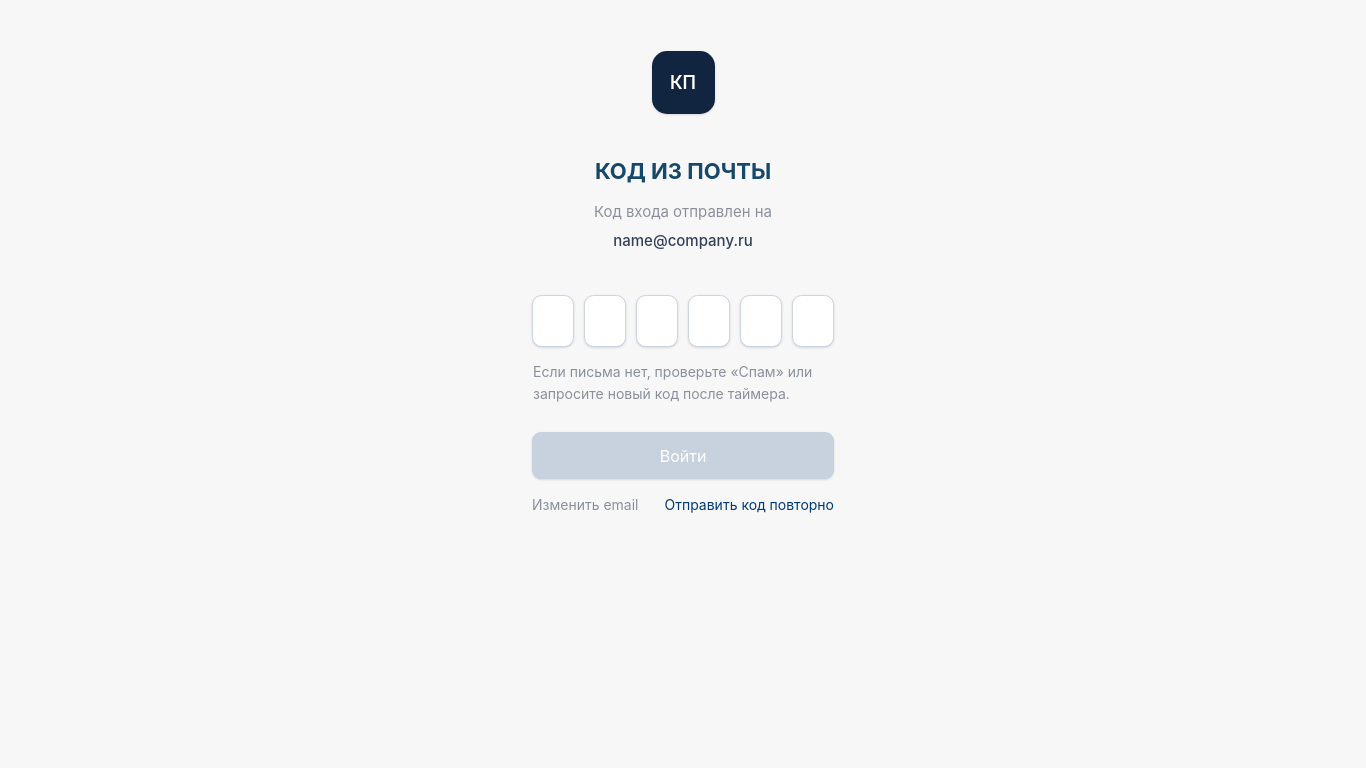
Test: Passwordless login pages › shows a controlled retry error when passwordless login code is expired
The image size is (1366, 768).
Click the field named "Код из письма" at (553, 321), box [532, 295, 574, 347]
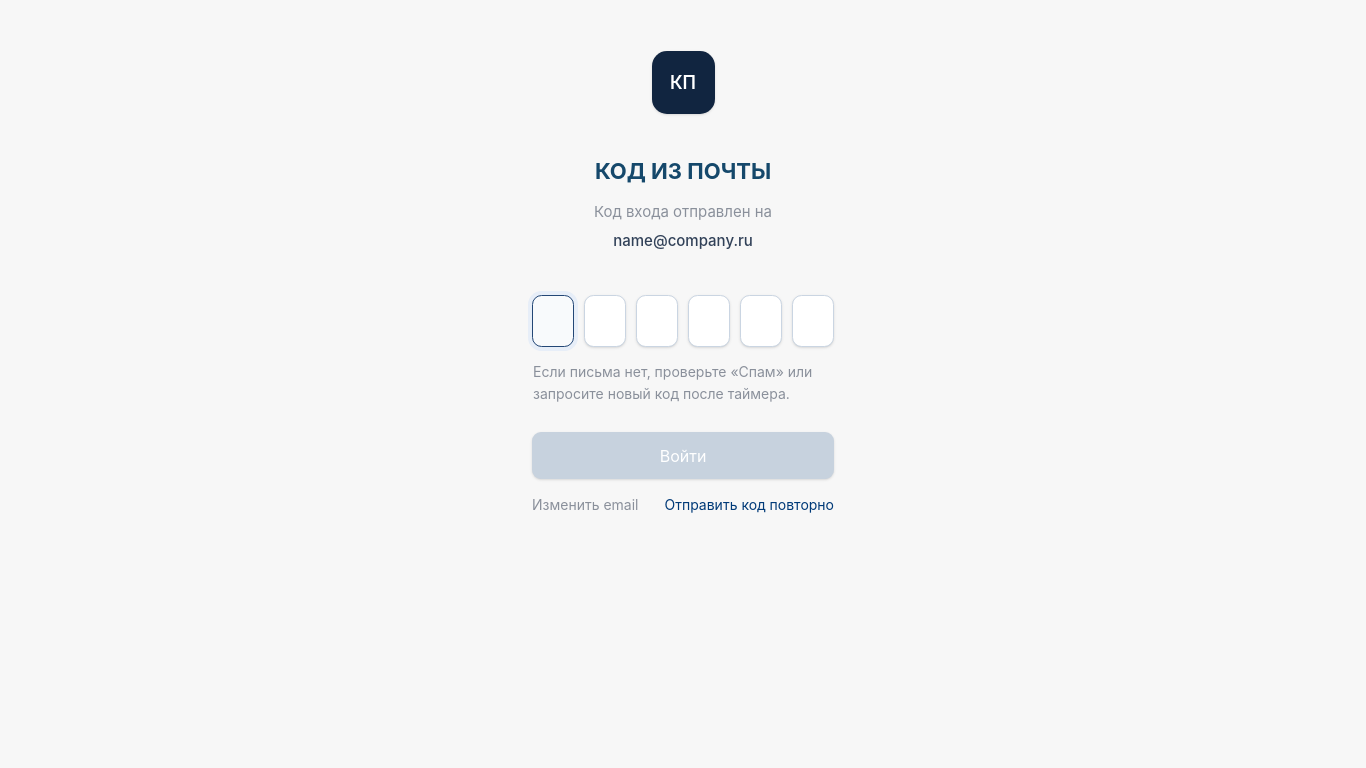
Type keys "123456"
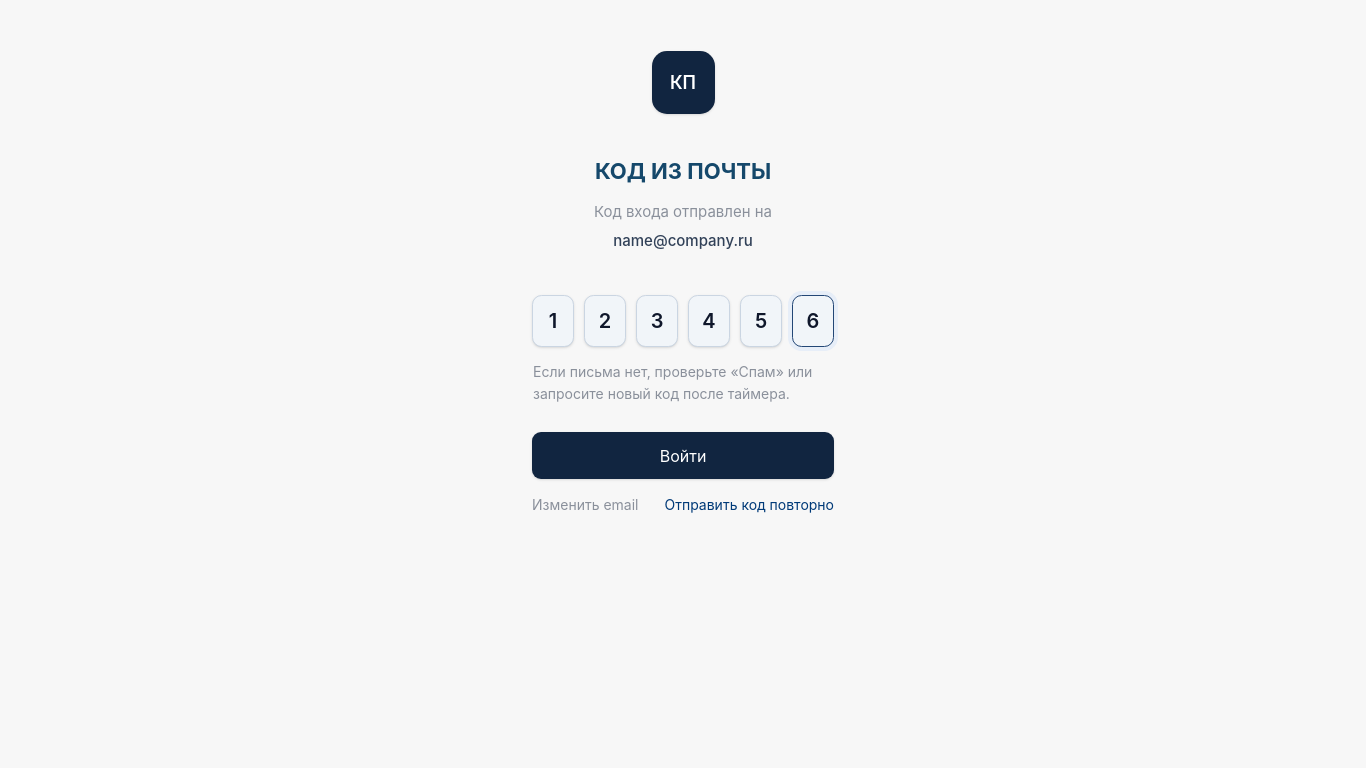
Click the button "Войти" at (683, 456), box [532, 432, 834, 479]
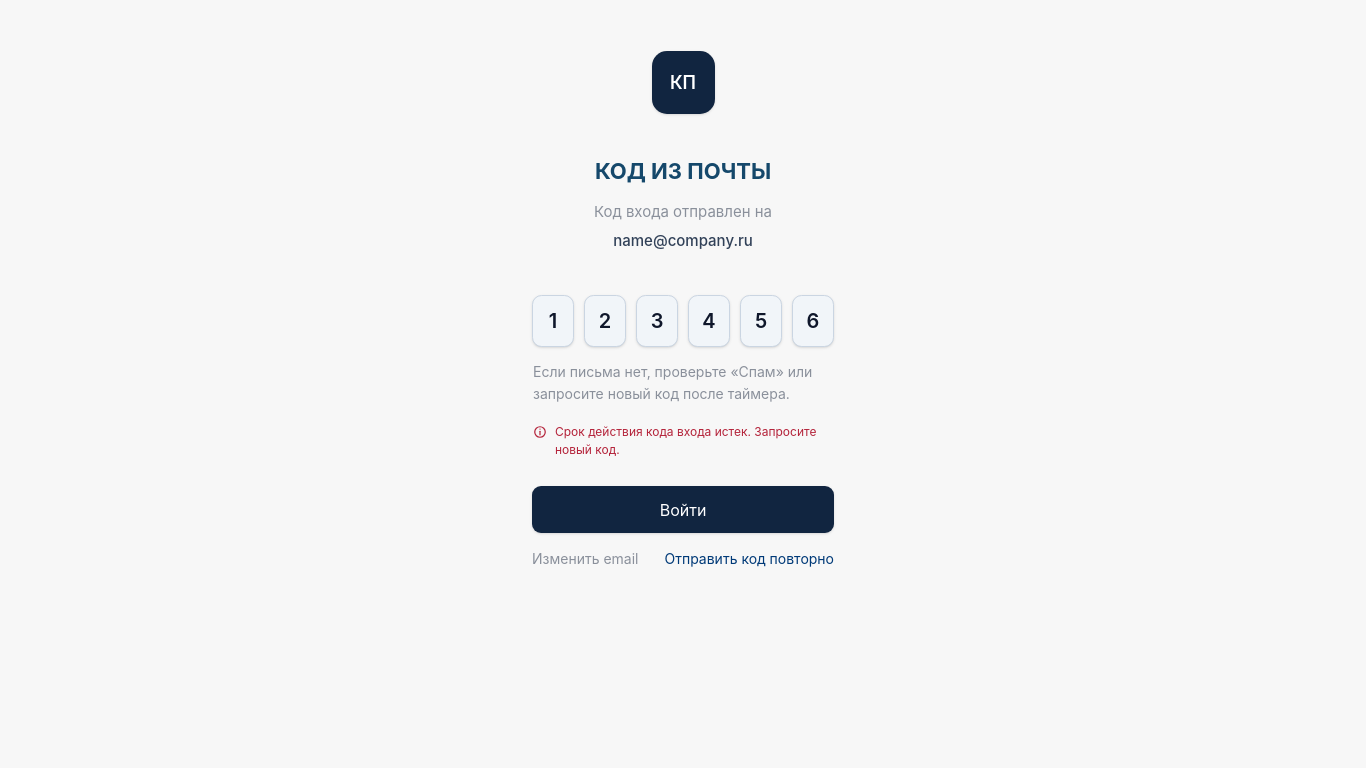
Result: the message reads "Срок действия кода входа истек. Запросите новый код." at [555, 424, 816, 457]
